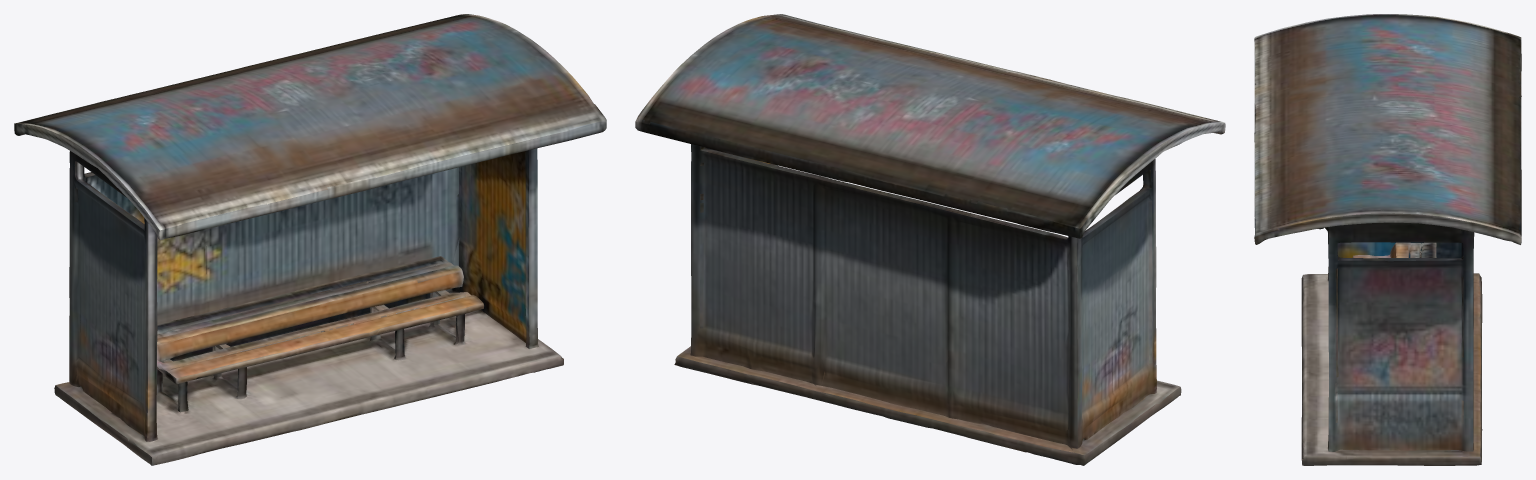
The model's file is ponto_pichado.glb.
3 views of the same model, side by side, from view 1: azimuth 30°, elevation 25°; view 2: azimuth 150°, elevation 25°; view 3: azimuth 270°, elevation 25° (orthographic). The views are drawn at different scales.
Parts seen in each view (by area): view 1: raiz; view 2: raiz; view 3: raiz.
Boxes of the visible parts, box(x1,y1,x2,y2) form: raiz: box(14, 14, 606, 465); raiz: box(635, 14, 1225, 465); raiz: box(1254, 14, 1521, 465).
Bounding box in the file's own units: 4.18 × 2.55 × 2.36.
Materials: 1 (1 with a texture image).
